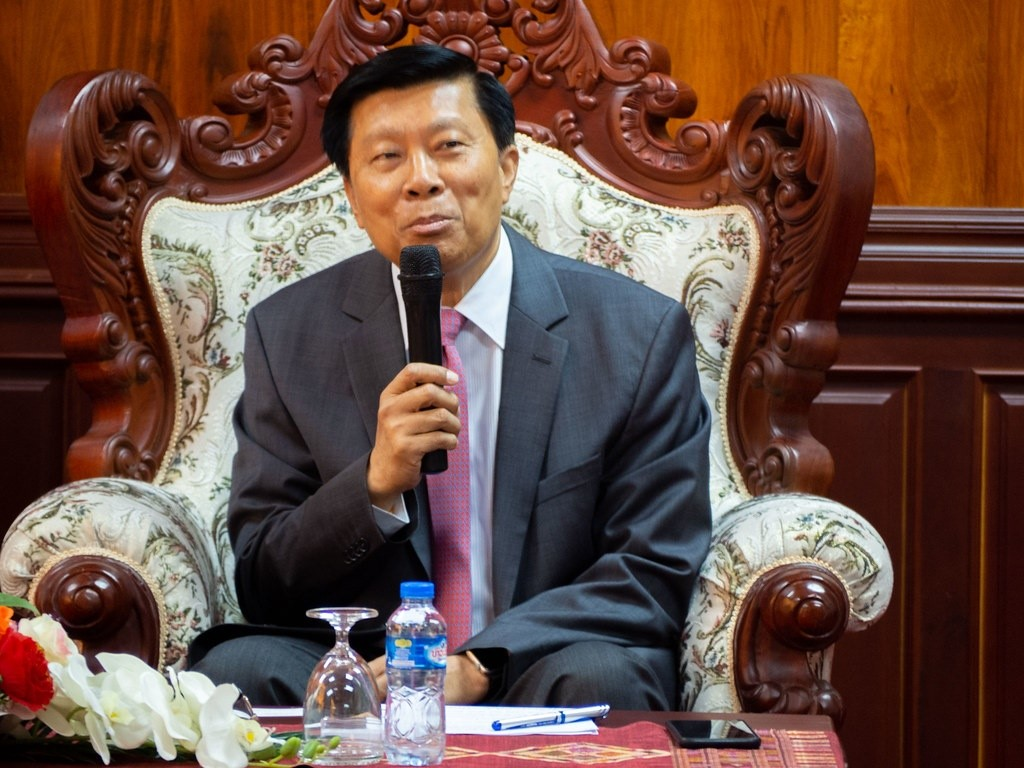face_no_mask: (329, 43, 518, 275)
